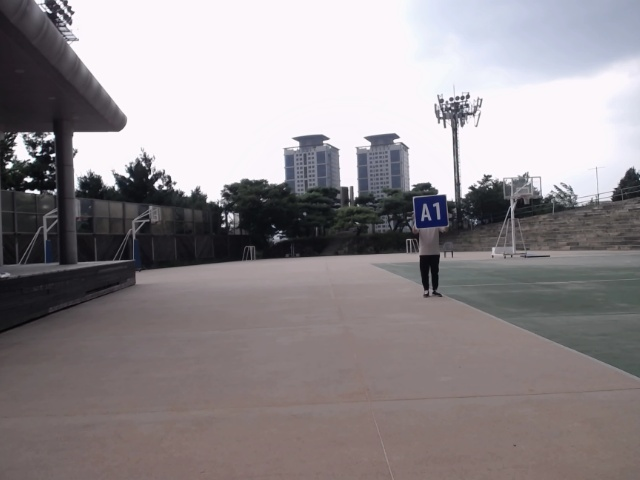delivery_a1: (415, 195, 447, 229)
